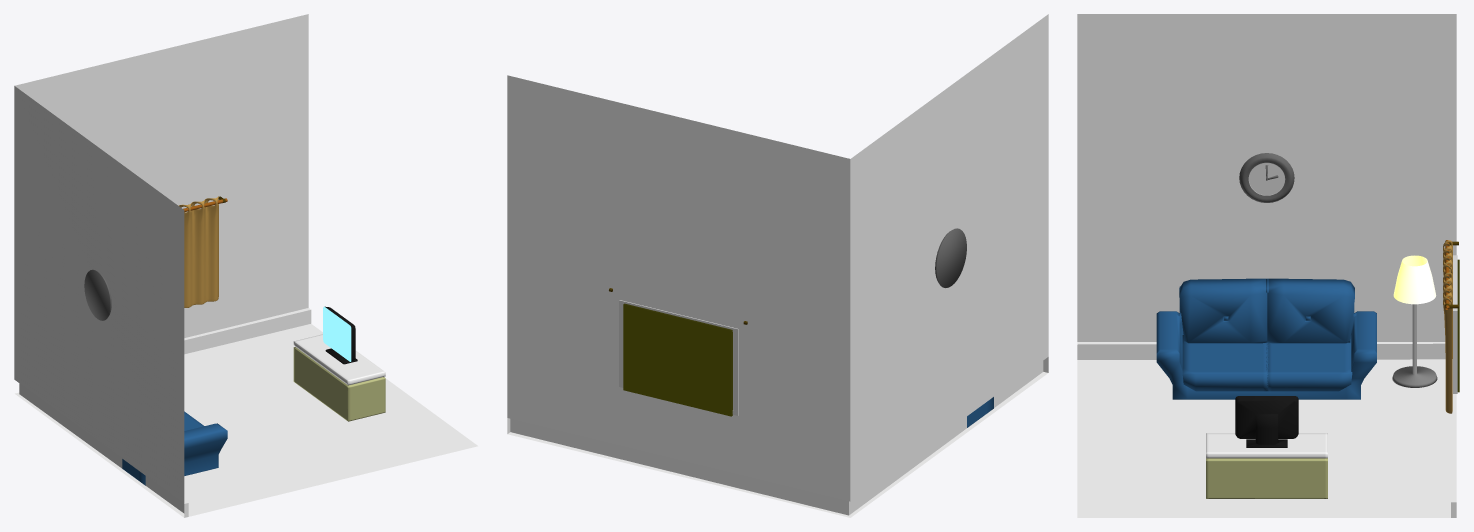
The model's file is LivingRoom.glb.
The picture shows the model from 3 angles, left to right: view 1: azimuth 30°, elevation 25°; view 2: azimuth 150°, elevation 25°; view 3: azimuth 270°, elevation 25°; orthographic projection. The views are drawn at different scales.
Visible parts, largest first — view 1: Cube, Cube.007, Curtain.2, Couch, Cube.009, Cylinder; view 2: Cube, Cube.001, Cylinder, Cube.006; view 3: Cube, Cube.007, Cube.004, Cube.005, Couch, Cube.002, Cube.003, Cube.008, Cylinder, Lamp.head, Curtain.2, Lamp.body (+1 smaller).
Part boxes in pixels (x1,y1,x2,y2): Cube: (14, 14, 477, 517); Cube.007: (293, 334, 385, 421); Curtain.2: (178, 196, 219, 307); Couch: (122, 423, 227, 485); Cube.009: (323, 306, 351, 361); Cylinder: (84, 269, 111, 320); Cube: (507, 14, 1048, 517); Cube.001: (623, 303, 732, 416); Cylinder: (935, 228, 966, 288); Cube.006: (619, 300, 738, 415); Cube: (1077, 14, 1456, 517); Cube.007: (1206, 433, 1327, 498); Cube.004: (1179, 278, 1268, 343); Cube.005: (1266, 278, 1354, 343); Couch: (1156, 286, 1376, 399); Cube.002: (1182, 335, 1268, 391); Cube.003: (1266, 335, 1352, 391); Cube.008: (1235, 396, 1298, 447); Cylinder: (1239, 153, 1294, 202); Lamp.head: (1393, 255, 1436, 304); Curtain.2: (1443, 272, 1452, 413); Lamp.body: (1392, 304, 1437, 387).
Size of the model in its own units: 12.08 by 12.04 by 12.1.
